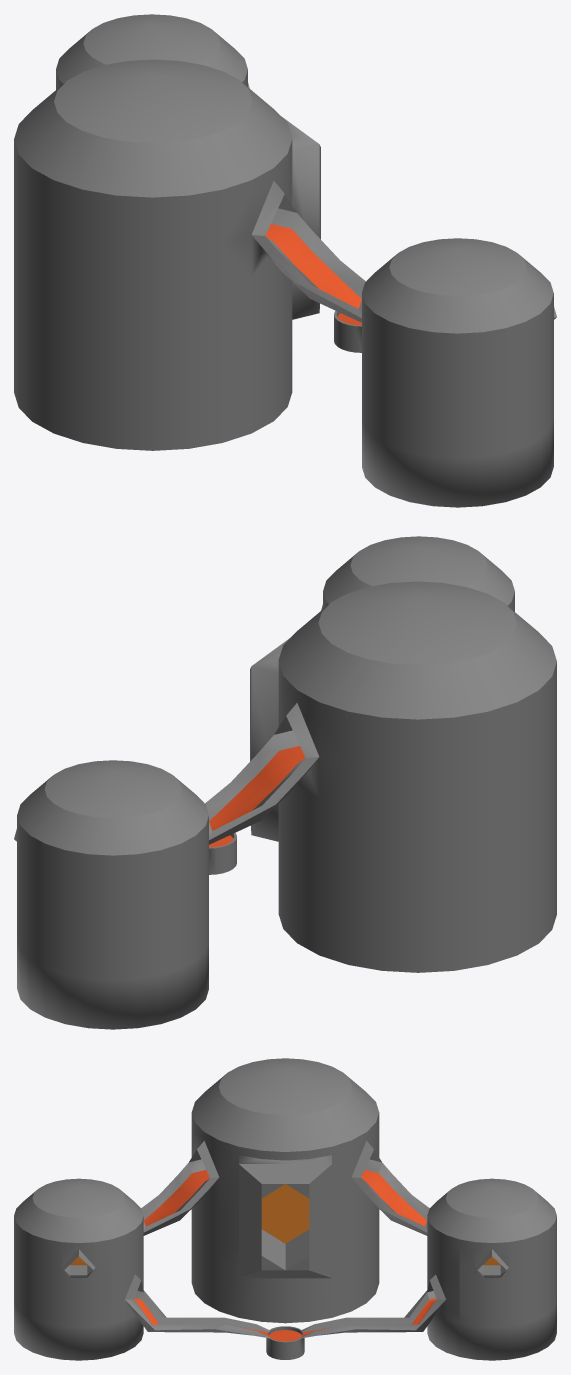
Rendered from Heating Machine.fbx.
The picture shows the model from 3 angles, top to bottom: view 1: azimuth 30°, elevation 25°; view 2: azimuth 150°, elevation 25°; view 3: azimuth 270°, elevation 25°; orthographic projection. The views are drawn at different scales.
Visible parts, largest first — view 1: Cylinder.001; view 2: Cylinder.001; view 3: Cylinder.001.
Part boxes in pixels (x1,y1,x2,y2): Cylinder.001: (14,14,556,507); Cylinder.001: (14,536,556,1029); Cylinder.001: (14,1058,556,1360).
Size of the model in its own units: 1638 by 1363 by 3136.
